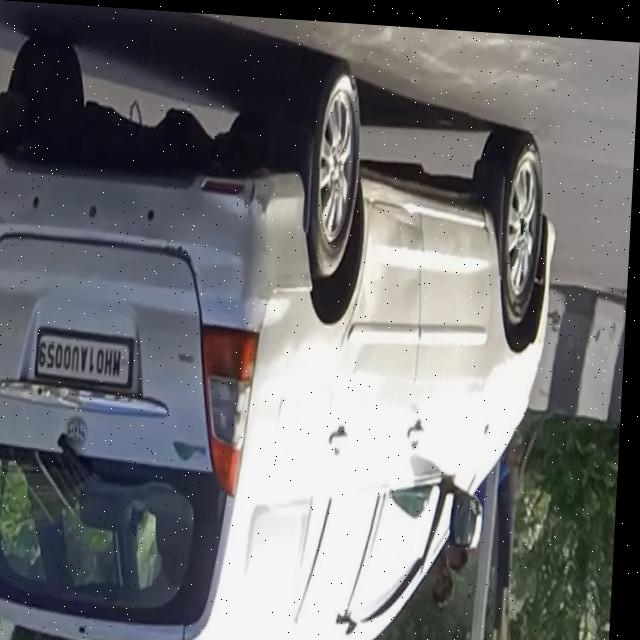plate: (37, 322, 140, 390)
